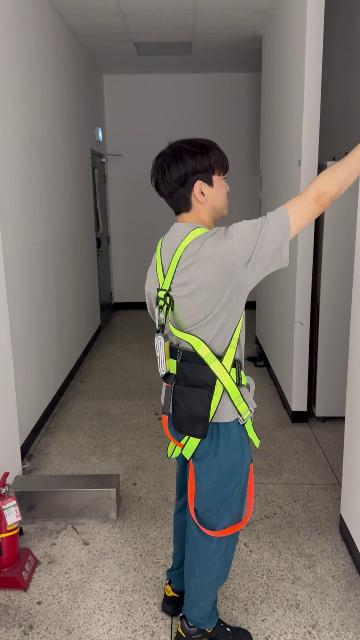helmet_not_worn: (149, 136, 233, 217)
shoe_worn: (176, 614, 252, 640), (161, 578, 184, 616)
vest_worn: (149, 233, 262, 529)
